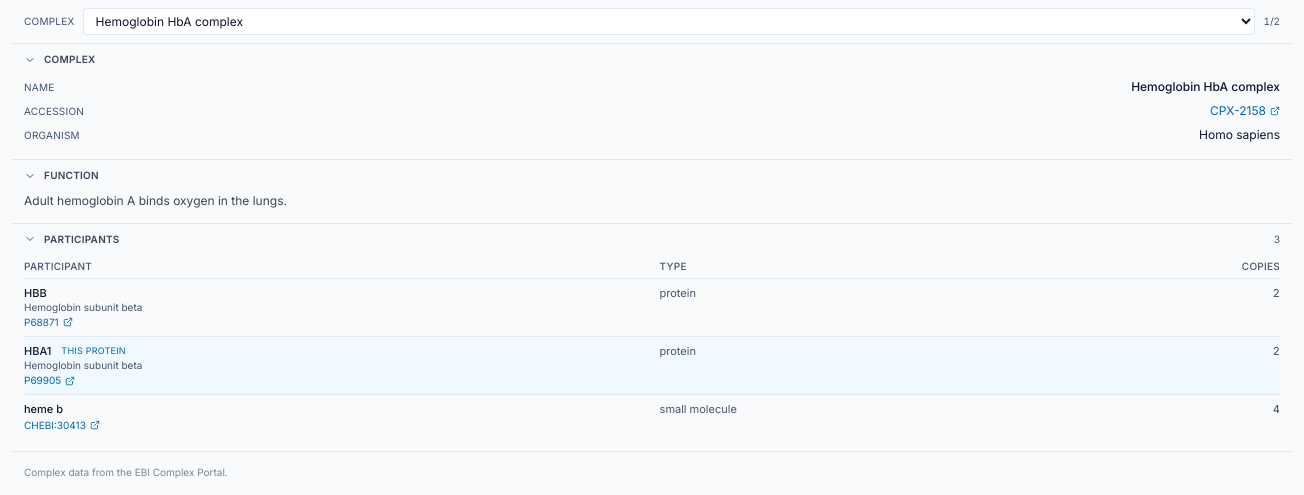
ComplexesPanel › switches the detail pane when another complex is selected
Expected: the text "Adult hemoglobin A binds oxygen in the lungs." is shown, [24,193,287,208]
Select "Hemoglobin HbA2 complex" in the dropdown at [669, 22], box [83,8,1255,35]
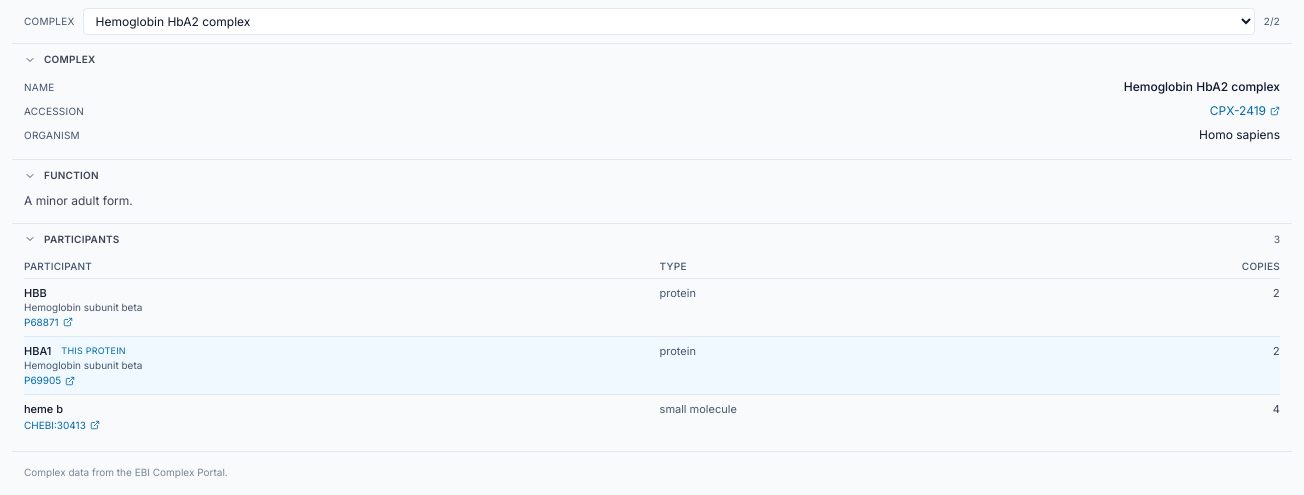
Result: the text "A minor adult form." is shown at [24,193,133,208]
Result: the text "Adult hemoglobin A binds oxygen in the lungs." is gone
Result: the link "CPX-2419" is shown at [1210,103,1280,119]
